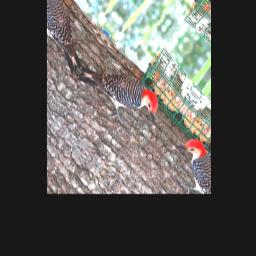Woodpecker: (71, 39, 169, 151)
